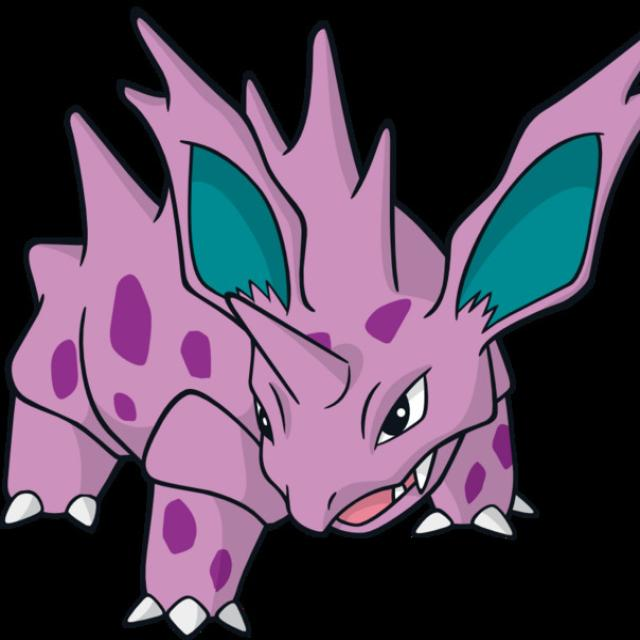Nidorino: (0, 53, 626, 570)
